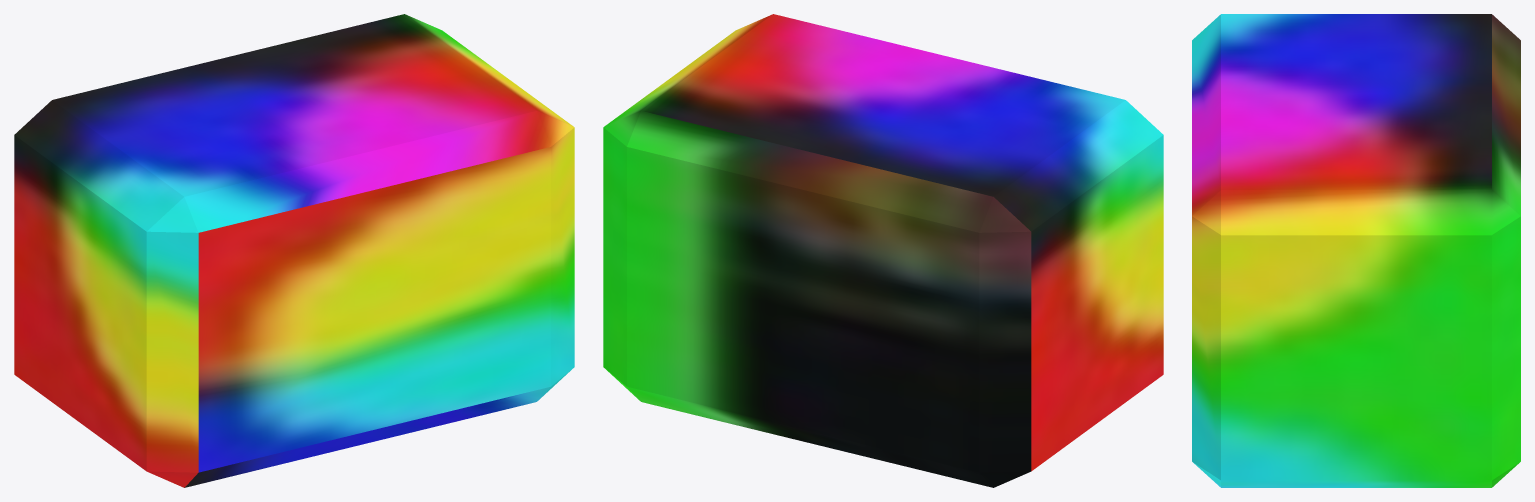
Rendered from payload-payload-20261026old.glb.
The picture shows the model from 3 angles, left to right: view 1: azimuth 30°, elevation 25°; view 2: azimuth 150°, elevation 25°; view 3: azimuth 270°, elevation 25°; orthographic projection. The views are drawn at different scales.
Parts seen in each view (by area): view 1: payload; view 2: payload; view 3: payload.
Boxes of the visible parts, left/top/right/bottom form: payload: left=14, top=14, right=574, bottom=487; payload: left=603, top=14, right=1163, bottom=487; payload: left=1192, top=14, right=1520, bottom=487.
Bounding box in the file's own units: 4 × 2.6 × 2.6.
Materials: 1 (1 with a texture image).
